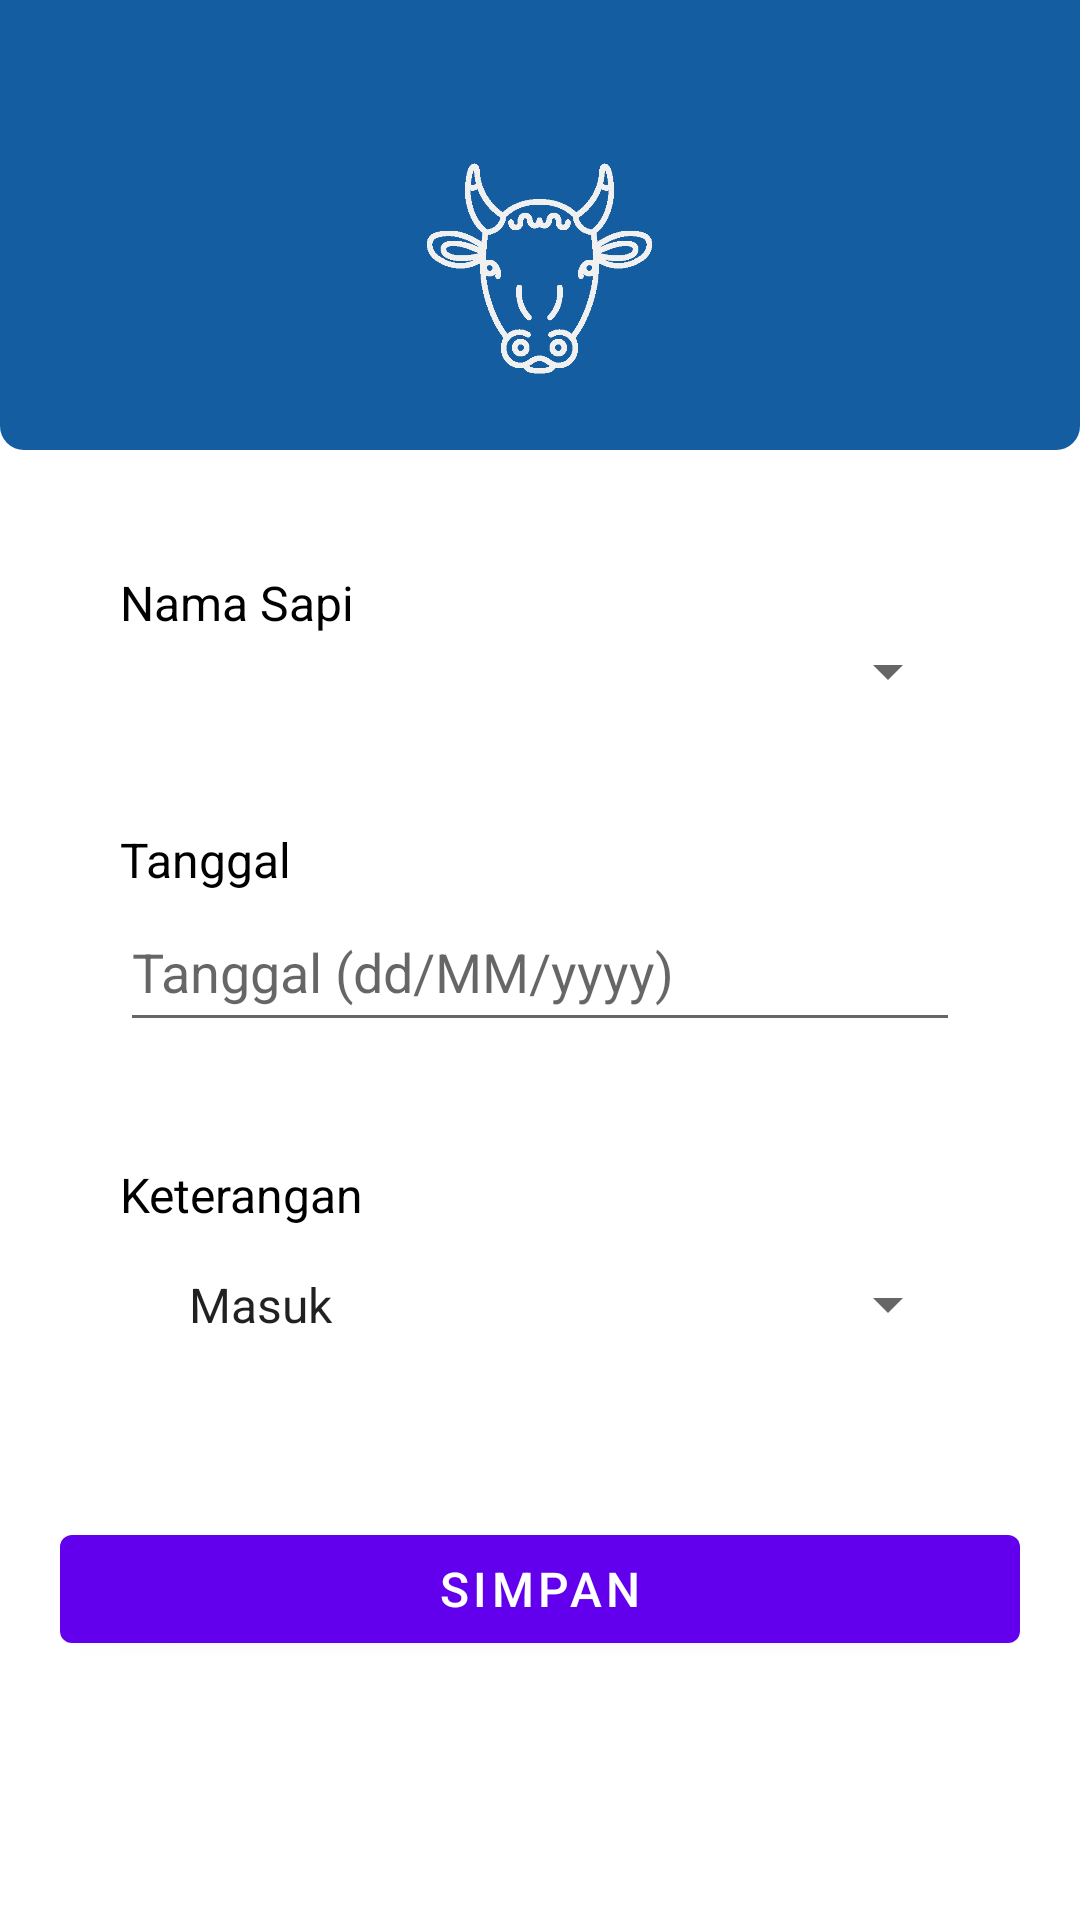

Icon bounding boxes for this 1080*1920 phone screenshot, format (x1, y1, x2, y2):
cow: (427, 163, 652, 374)
